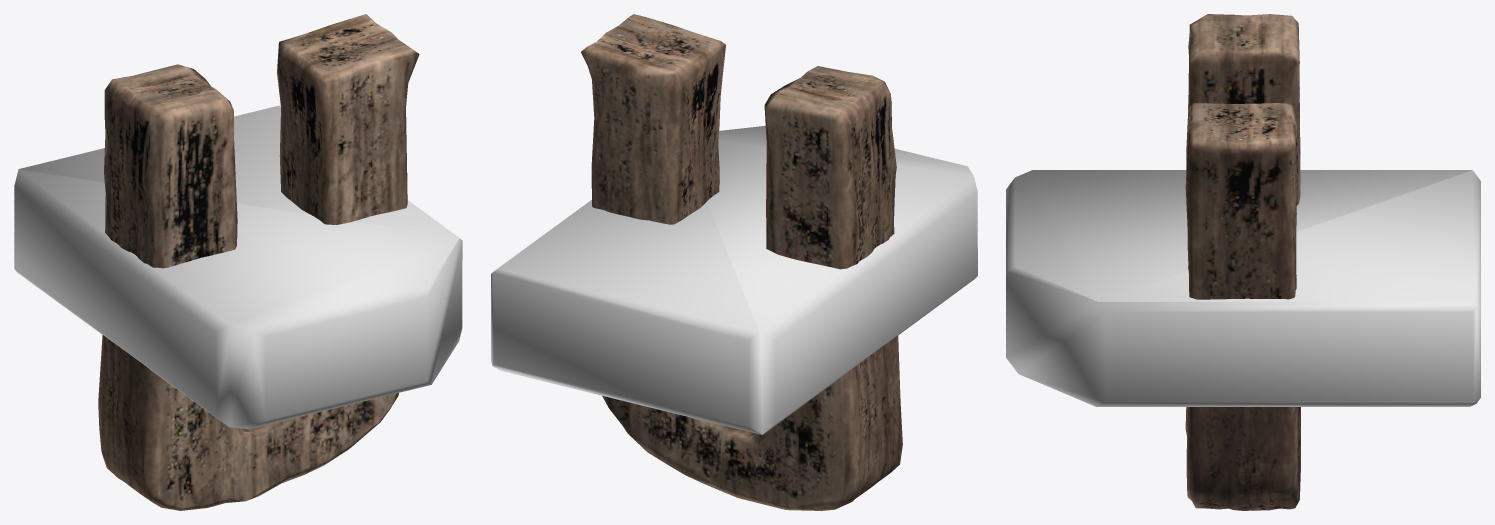
File: SM_DRUNKEN_SKULL_U.fbx
3 views of the same model, side by side, from view 1: azimuth 30°, elevation 25°; view 2: azimuth 150°, elevation 25°; view 3: azimuth 270°, elevation 25° (orthographic). The views are drawn at different scales.
Visible parts, largest first — view 1: SM_DRUNKEN_SKULL_U_ConvexHulls, SM_DRUNKEN_SKULL_U; view 2: SM_DRUNKEN_SKULL_U_ConvexHulls, SM_DRUNKEN_SKULL_U; view 3: SM_DRUNKEN_SKULL_U_ConvexHulls, SM_DRUNKEN_SKULL_U.
Part boxes in pixels (x1,y1,x2,y2): SM_DRUNKEN_SKULL_U_ConvexHulls: (14, 105, 462, 429); SM_DRUNKEN_SKULL_U: (98, 14, 419, 510); SM_DRUNKEN_SKULL_U_ConvexHulls: (491, 125, 977, 434); SM_DRUNKEN_SKULL_U: (581, 14, 902, 510); SM_DRUNKEN_SKULL_U_ConvexHulls: (1006, 170, 1480, 406); SM_DRUNKEN_SKULL_U: (1185, 14, 1300, 510).
Bounding box in the file's own units: 0.6333 × 0.9071 × 0.9091.
